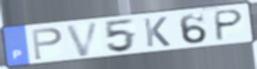5: (102, 17, 137, 53)
6: (178, 12, 209, 45)
K: (142, 16, 172, 49)
P: (30, 26, 64, 61), (214, 8, 245, 43)
V: (64, 20, 102, 58)
